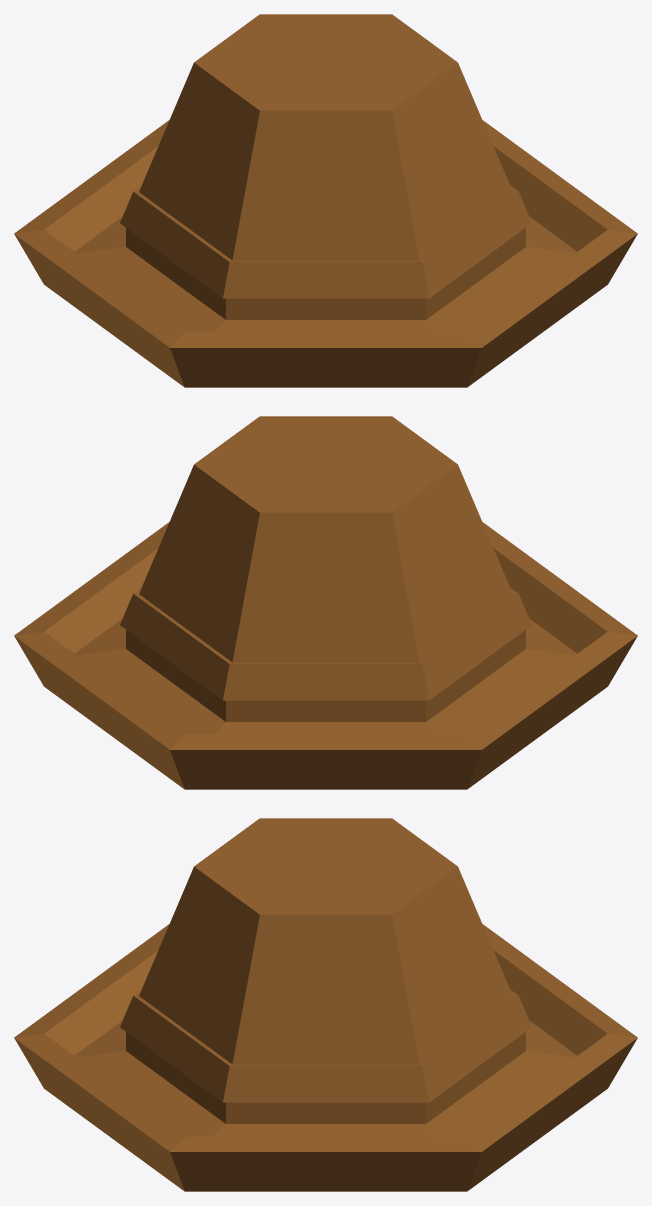
File: Hat.fbx
3 renders of one model, top to bottom at view 1: azimuth 30°, elevation 25°; view 2: azimuth 150°, elevation 25°; view 3: azimuth 270°, elevation 25°, orthographic.
Visible parts, largest first — view 1: Hat; view 2: Hat; view 3: Hat.
Part boxes in pixels (left/top/right/bottom): Hat: left=14, top=14, right=637, bottom=387; Hat: left=14, top=416, right=637, bottom=789; Hat: left=14, top=818, right=637, bottom=1191.
Bounding box in the file's own units: 270 × 123 × 312.
